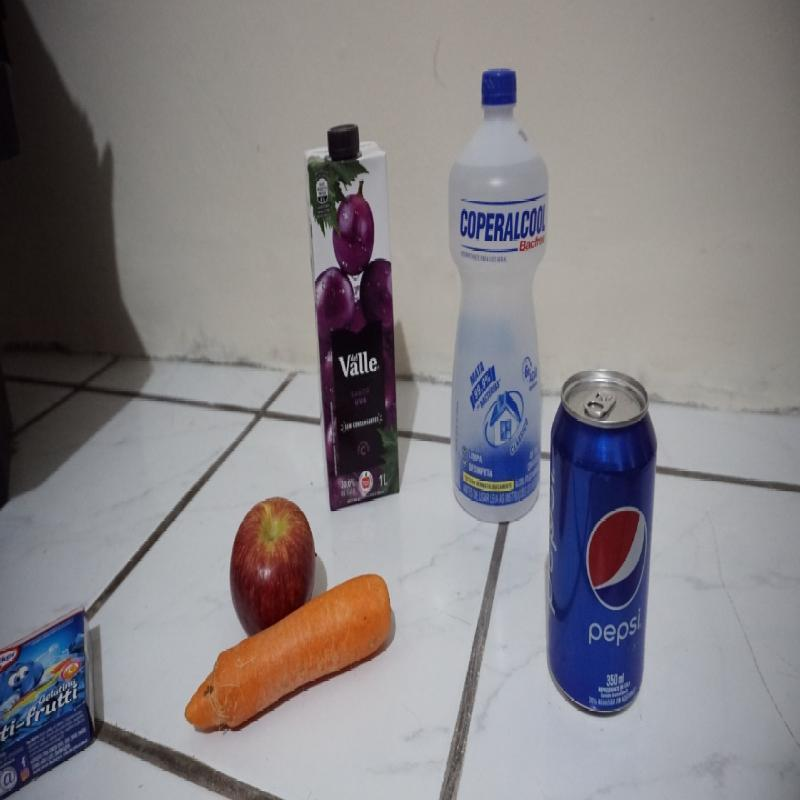Alcohol Bottle: (444, 65, 546, 527)
Carrot: (178, 573, 394, 738)
Gelatine: (1, 601, 100, 799)
Soda can: (545, 366, 658, 718)
